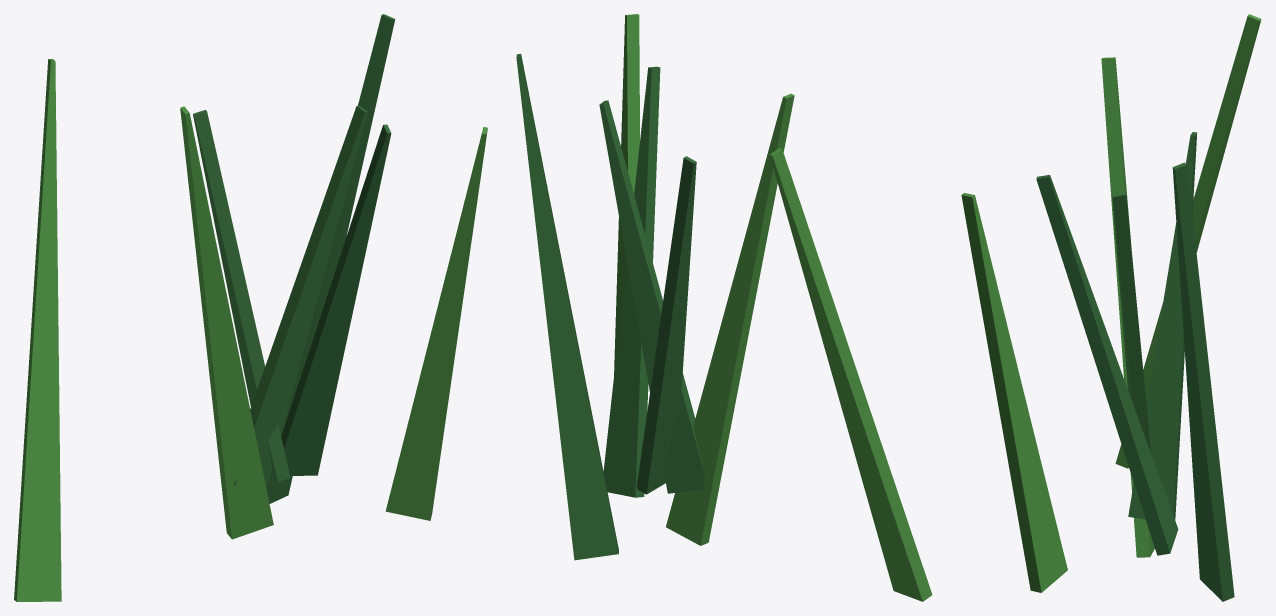
The model's file is grass.glb.
3 renders of one model, left to right at view 1: azimuth 30°, elevation 25°; view 2: azimuth 150°, elevation 25°; view 3: azimuth 270°, elevation 25°, orthographic.
Visible parts, largest first — view 1: grass_Body; view 2: grass_Body; view 3: grass_Body.
Boxes of the visible parts, x1,y1,x2,y2 form: grass_Body: (14,14,487,601); grass_Body: (516,14,932,601); grass_Body: (961,14,1261,601).
Bounding box in the file's own units: 0.5054 × 0.5798 × 0.3282.
